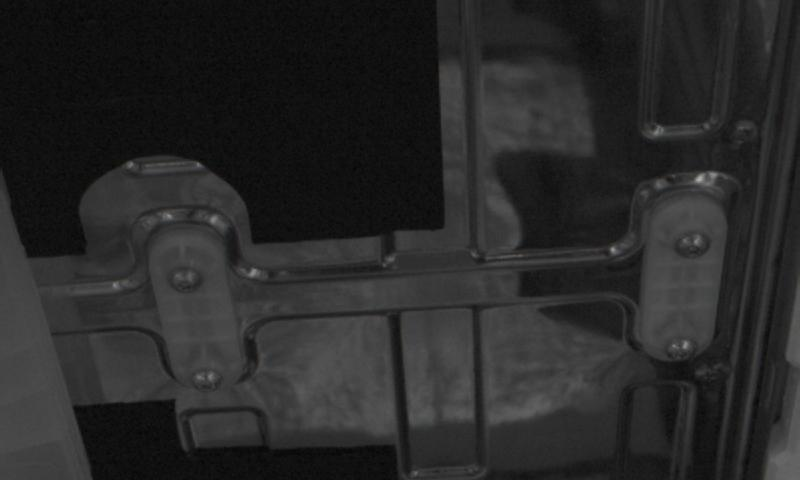vida-ok: (673, 221, 716, 266), (168, 258, 208, 303), (187, 358, 229, 398), (662, 329, 702, 367)
